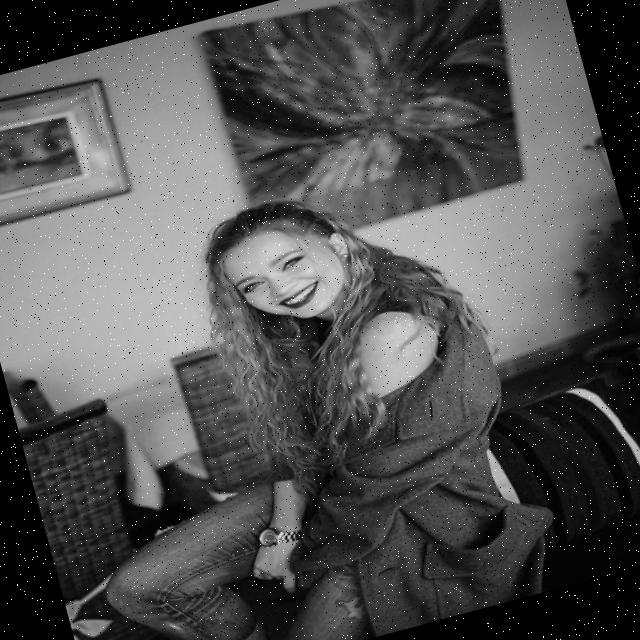Happiness: (206, 198, 362, 340)
